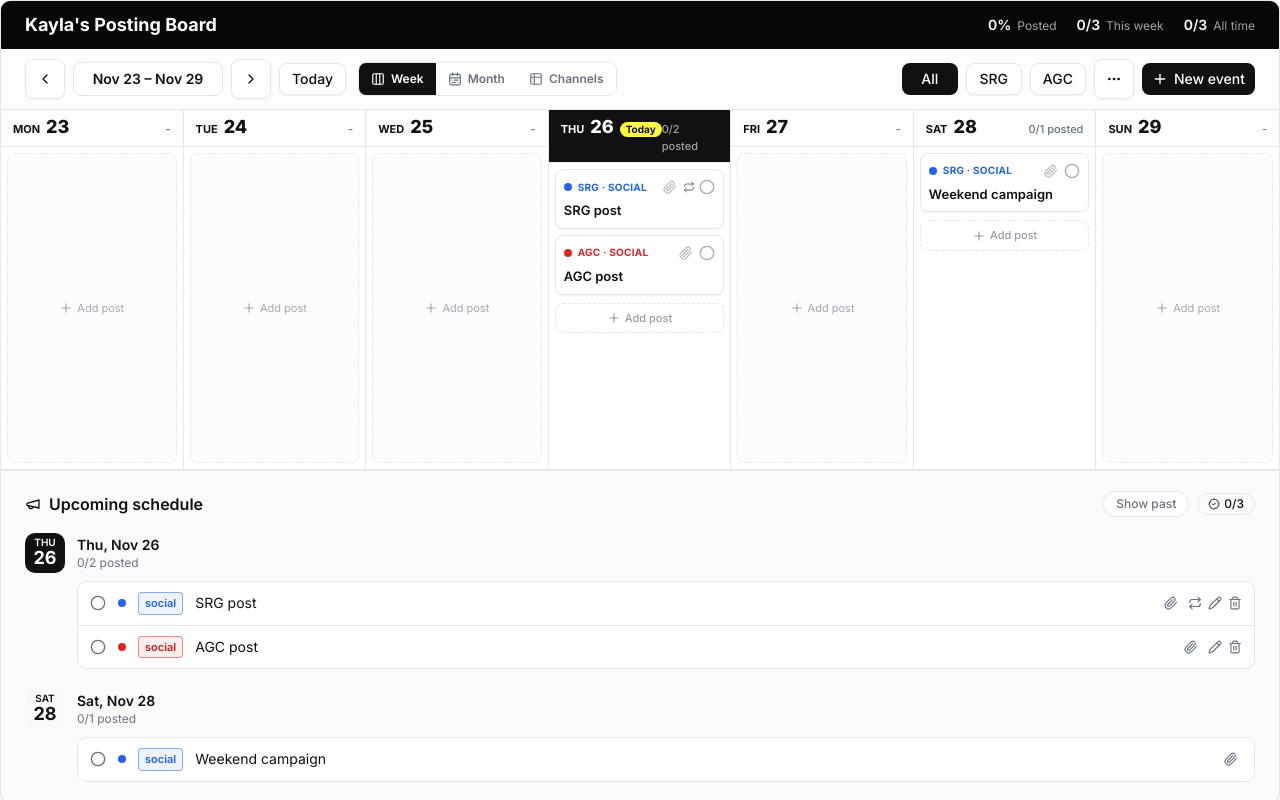
it: MarketingCalendar controls › lets a generated date be skipped before creating
Expected: the heading "Kayla's Posting Board" is shown, [25,11,217,39]
Click the button "New event" at point(1198, 79), box [1142,63,1255,95]
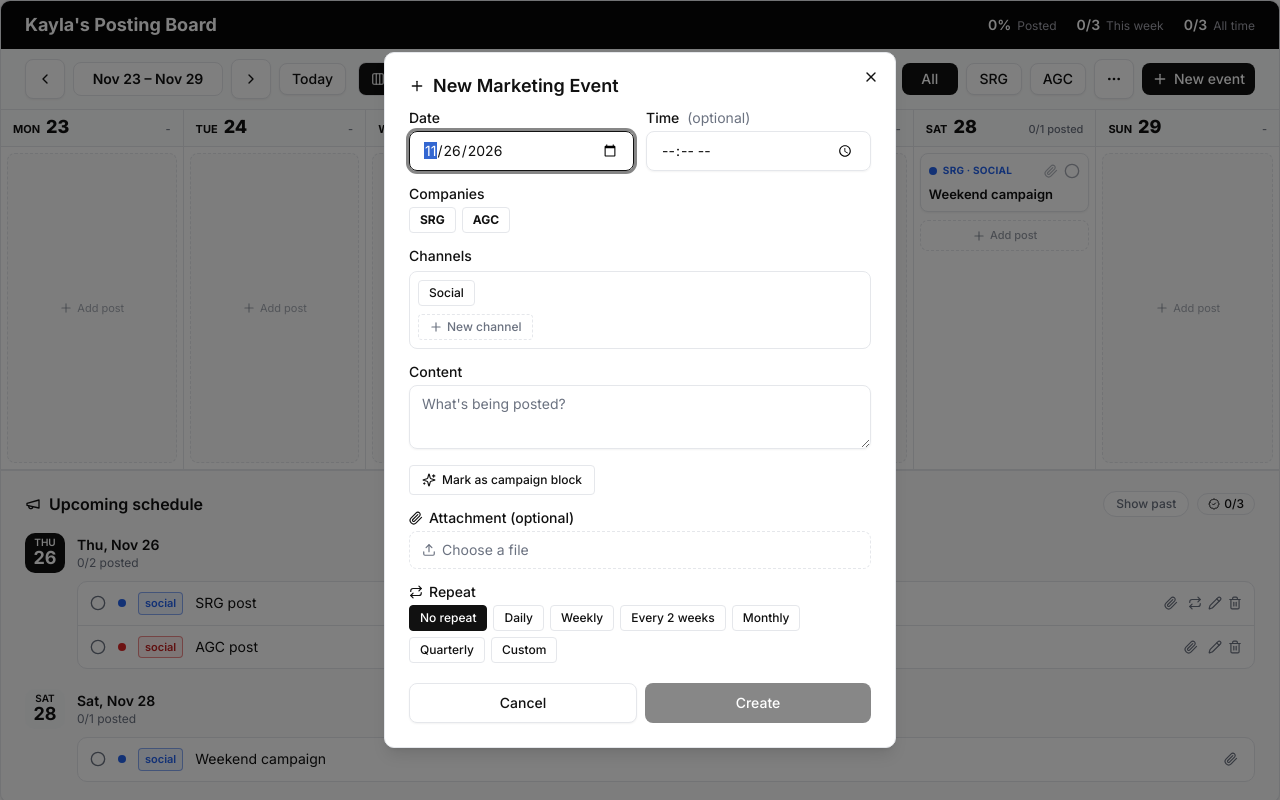
Type "2026-07-31" into the date field at point(522, 151), box [409,131,634,171]
Click the button "Social" at point(446, 293), box [418,280,475,306]
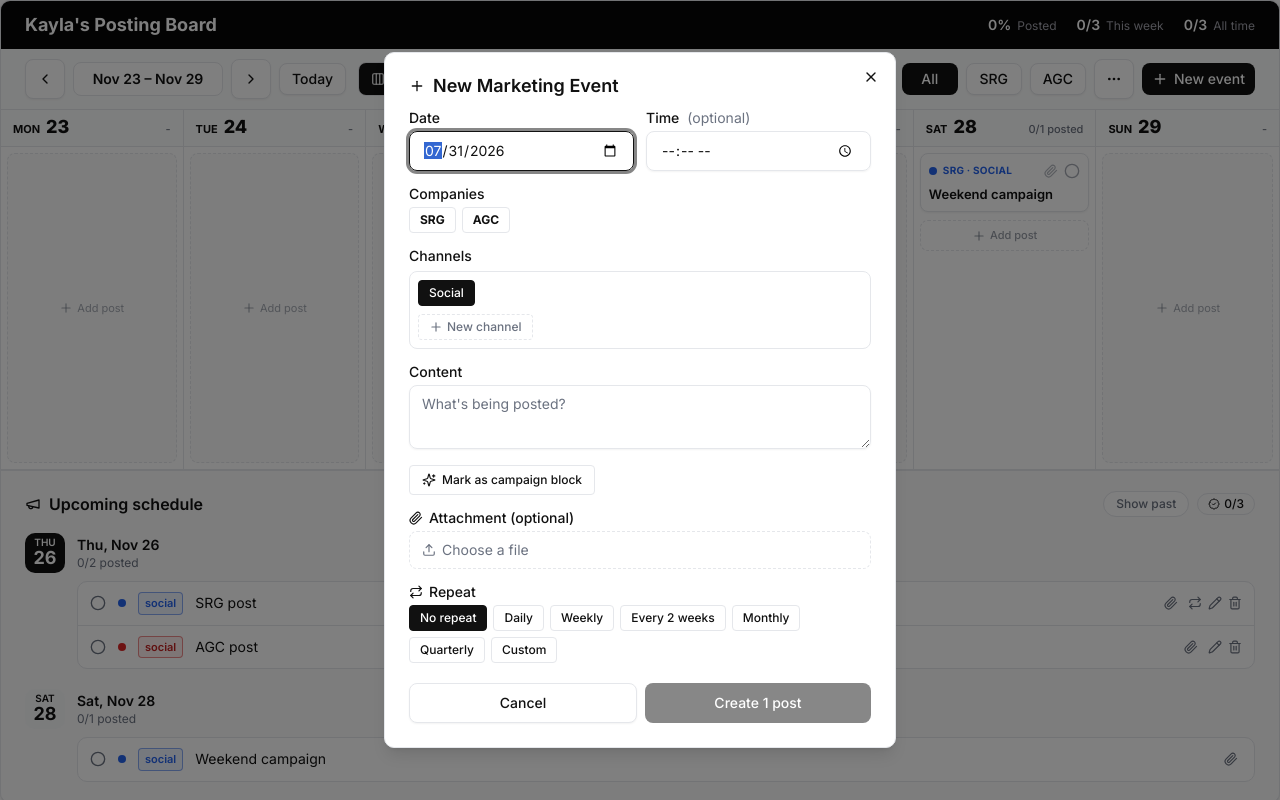
Click the button "Weekly" at point(582, 618), box [550,605,614,631]
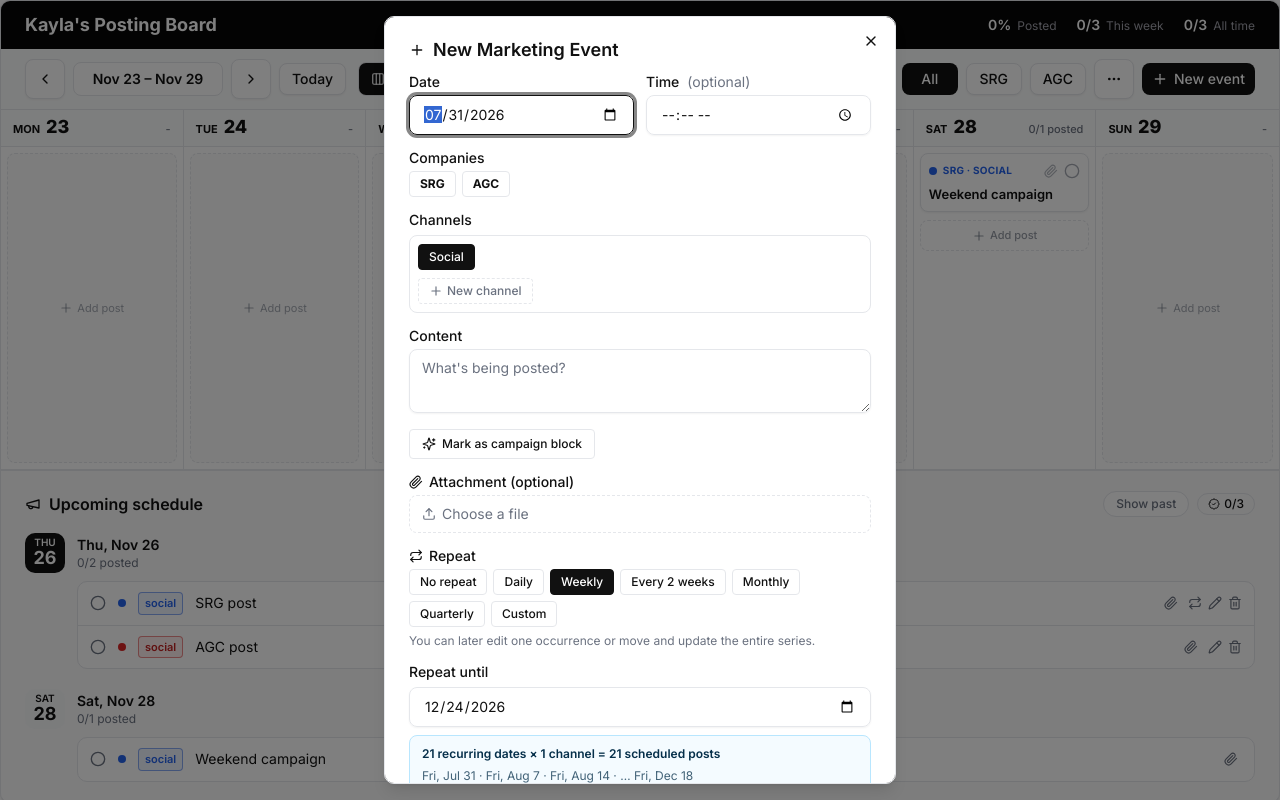
Type "2026-08-14" into the date field below "Repeat until" at point(640, 707), box [409,687,871,727]
(page scrolled)
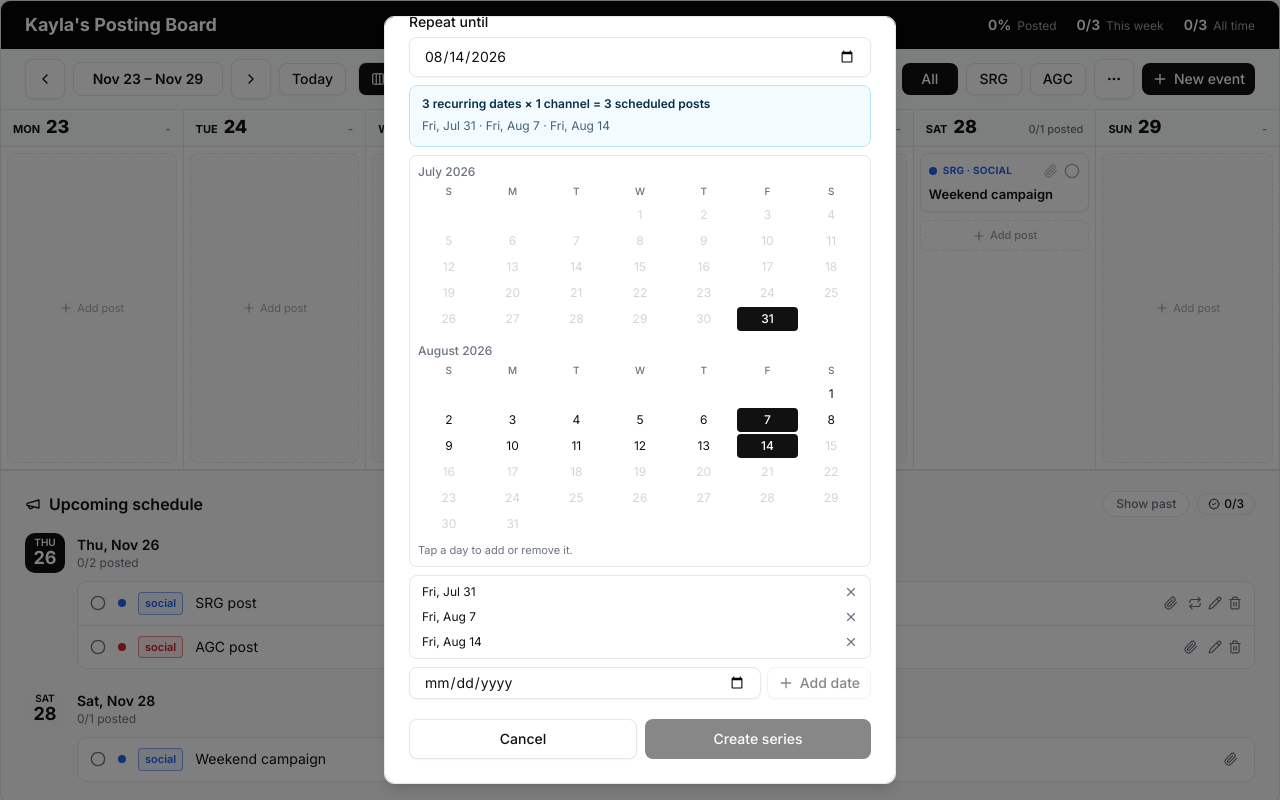
Expected: the text "3 recurring dates × 1 channel = 3 scheduled posts" is shown, [422,96,710,111]
Click the button named "Skip 2026-07-31" at point(851, 592), box [844,585,858,599]
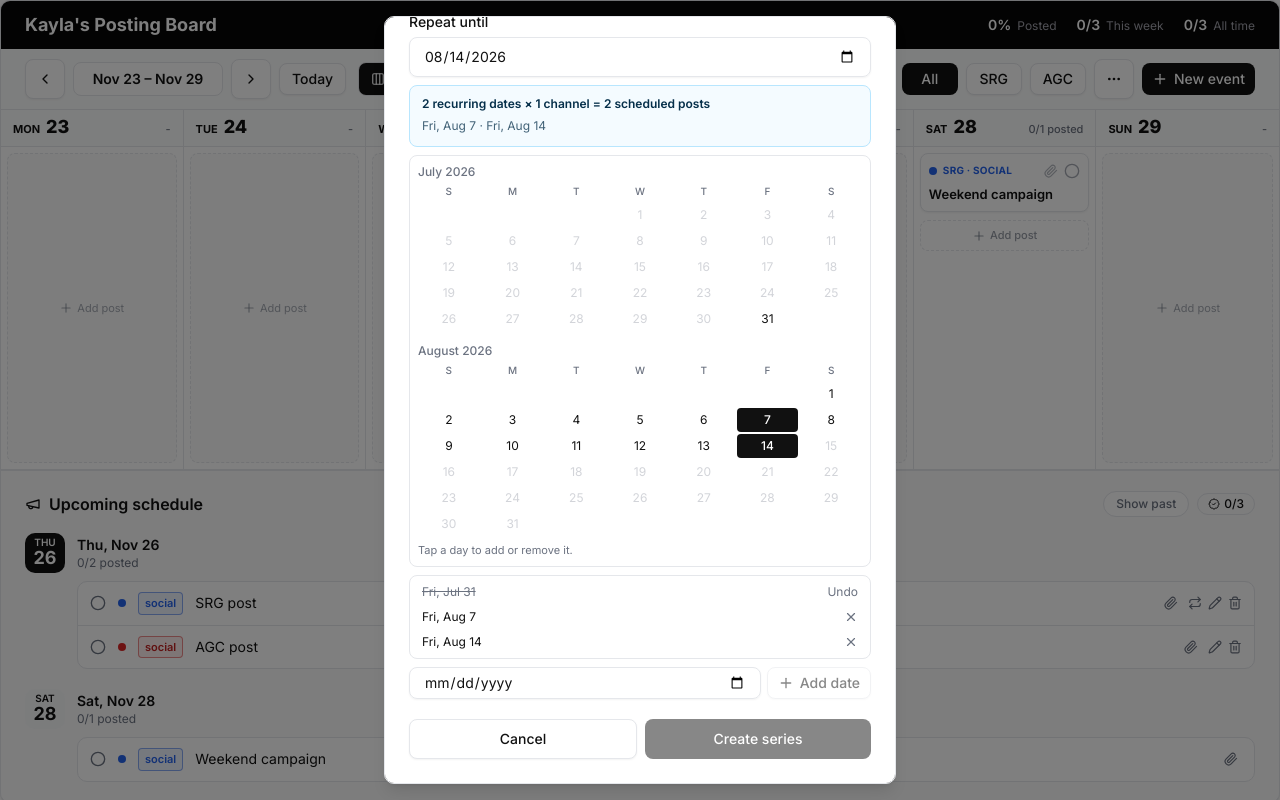
Expected: the text "2 recurring dates × 1 channel = 2 scheduled posts" is shown, [422,96,710,111]
Click the button with aria-label "Include 2026-07-31" at point(843, 592), box [827,584,858,600]
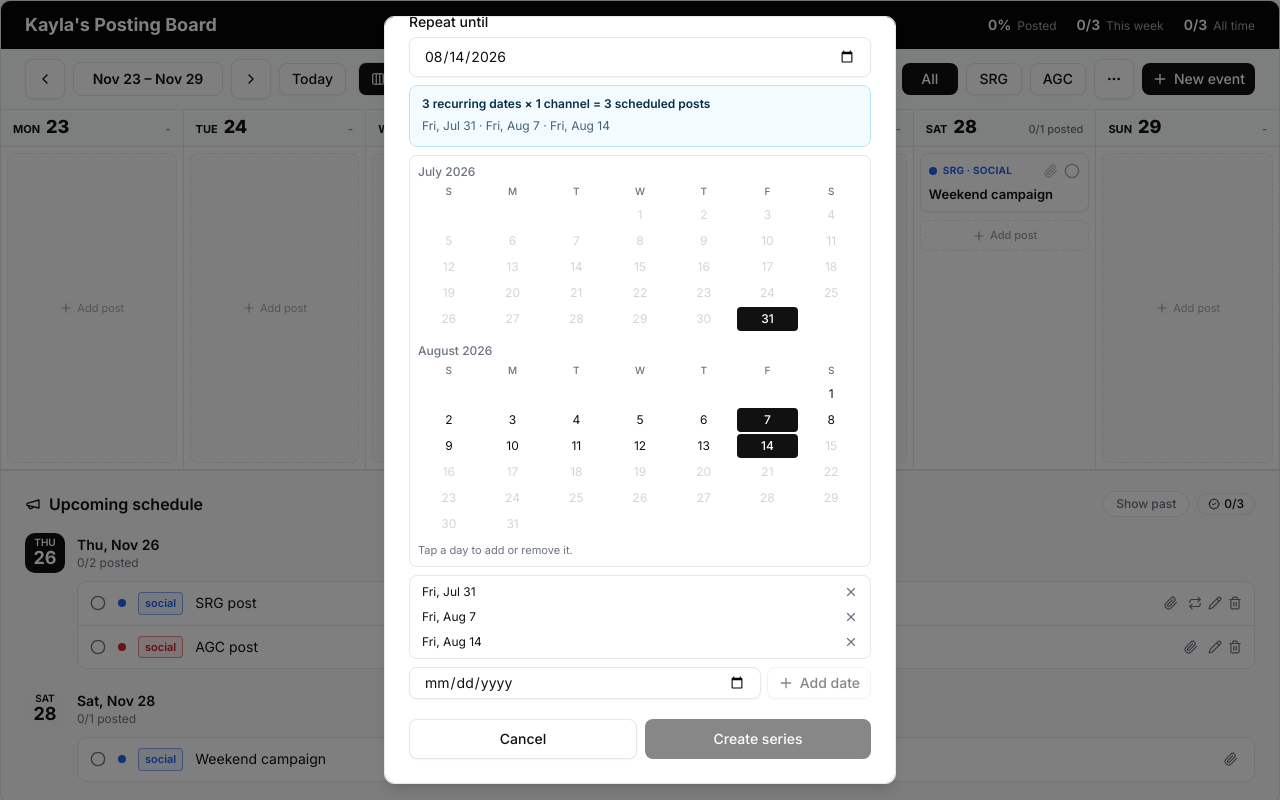
Expected: the text "3 recurring dates × 1 channel = 3 scheduled posts" is shown, [422,96,710,111]
